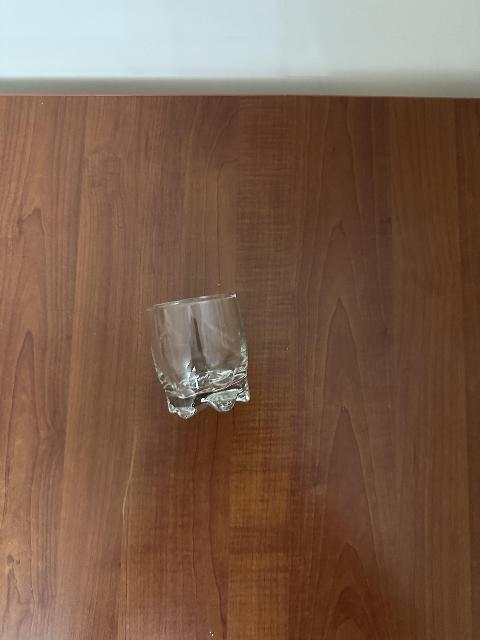Cam: (135, 292, 254, 416)
